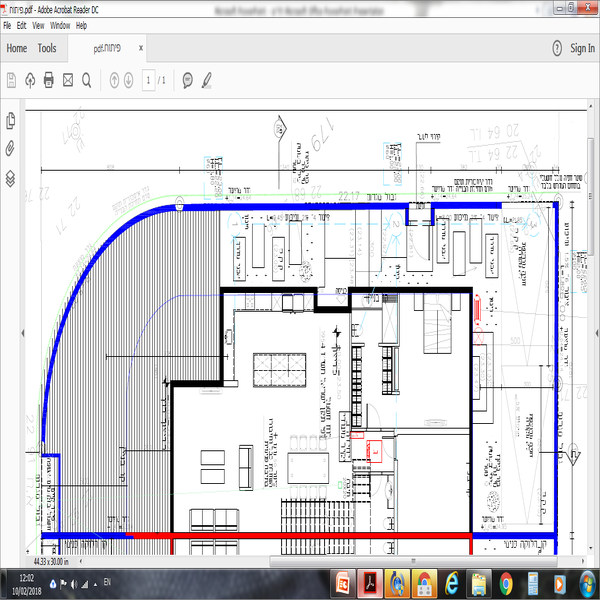room: (218, 283, 357, 436), (345, 286, 478, 432)
wall: (42, 531, 468, 539), (554, 204, 559, 525), (169, 380, 177, 533), (167, 204, 405, 209), (348, 285, 472, 293), (471, 291, 475, 534), (222, 286, 318, 294), (476, 531, 556, 540), (433, 202, 503, 210), (220, 285, 224, 381), (556, 203, 557, 542), (315, 306, 352, 314)
